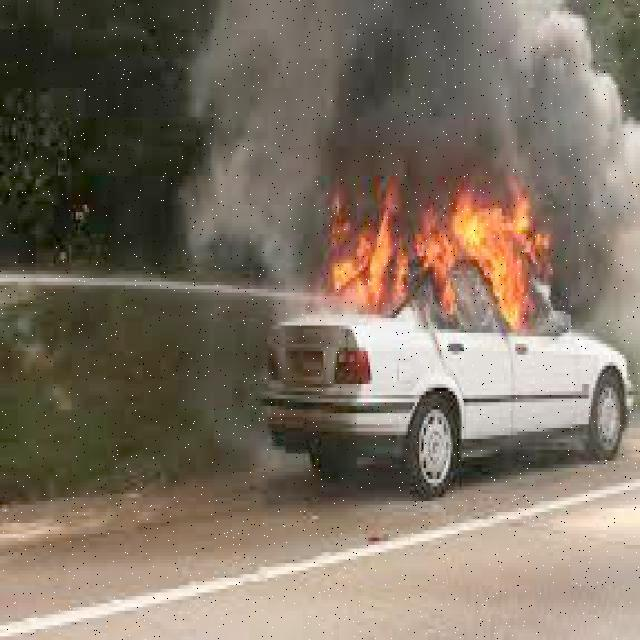fire: (338, 196, 546, 312)
smoke: (260, 1, 629, 194)
